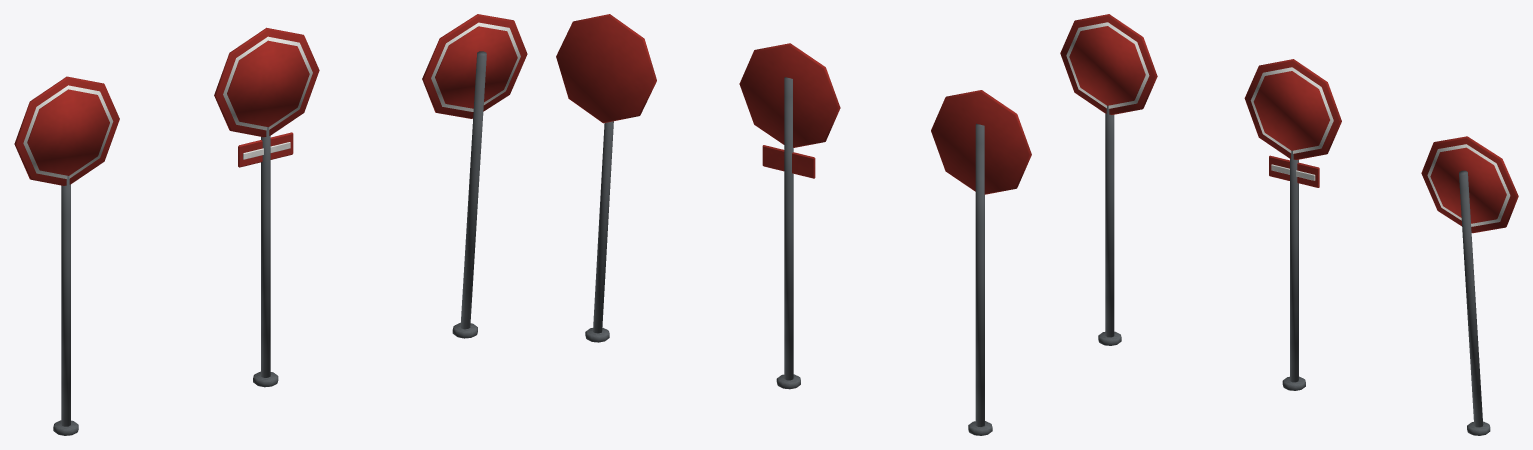
Rendered from sign_stop.glb.
3 renders of one model, left to right at view 1: azimuth 30°, elevation 25°; view 2: azimuth 150°, elevation 25°; view 3: azimuth 330°, elevation 25°, orthographic. The views are drawn at different scales.
Visible parts, largest first — view 1: sign_stop_v2, sign_stop_v1, sign_stop_v3; view 2: sign_stop_v2, sign_stop_v3, sign_stop_v1; view 3: sign_stop_v2, sign_stop_v1, sign_stop_v3.
Boxes of the visible parts, left/top/right/bottom form: sign_stop_v2: left=214, top=27, right=319, bottom=387; sign_stop_v1: left=14, top=76, right=119, bottom=435; sign_stop_v3: left=422, top=14, right=527, bottom=338; sign_stop_v2: left=739, top=43, right=840, bottom=389; sign_stop_v3: left=556, top=14, right=656, bottom=342; sign_stop_v1: left=931, top=90, right=1031, bottom=435; sign_stop_v2: left=1244, top=59, right=1341, bottom=390; sign_stop_v1: left=1060, top=14, right=1157, bottom=345; sign_stop_v3: left=1421, top=136, right=1518, bottom=435.
Bounding box in the file's own units: 4.04 × 2.72 × 0.3548.
2 materials, 2 textured.
